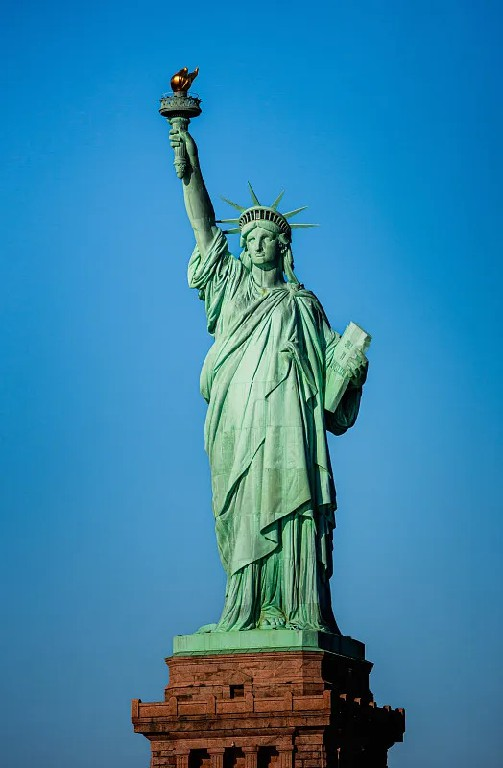SL: (131, 66, 406, 768)
